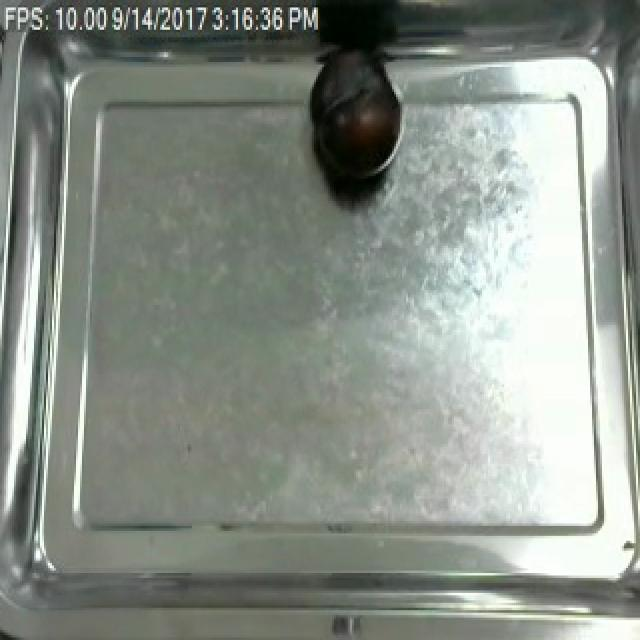Fruit: (306, 50, 406, 188)
